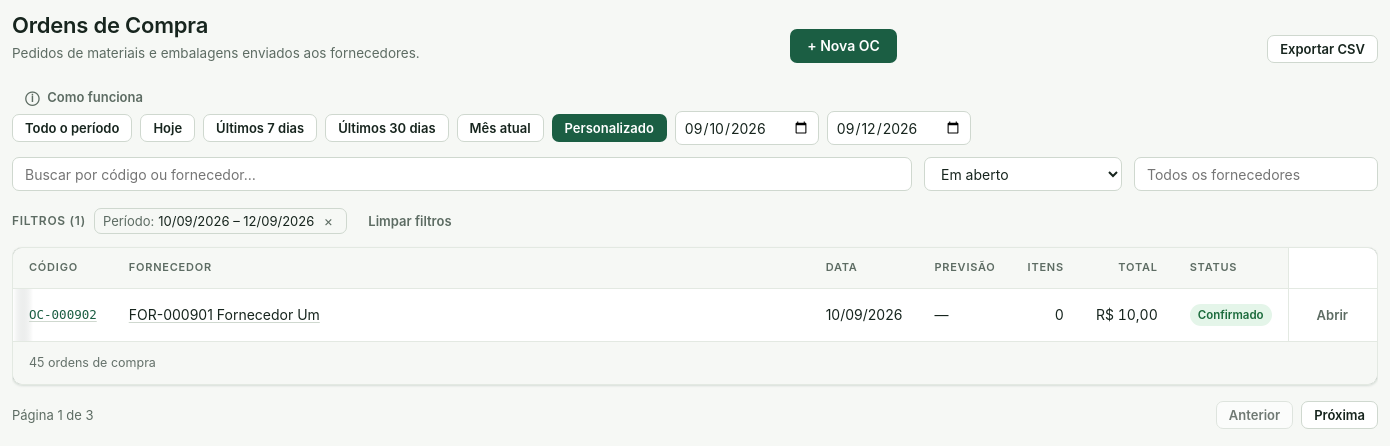
Test: as seis perguntas do período, lista por lista › Ordens de Compra
This screenshot has width=1390, height=446.
Type "2026-09-10" into the 2nd date field named "Pedido até" at (899, 128), box [827,111,971,145]
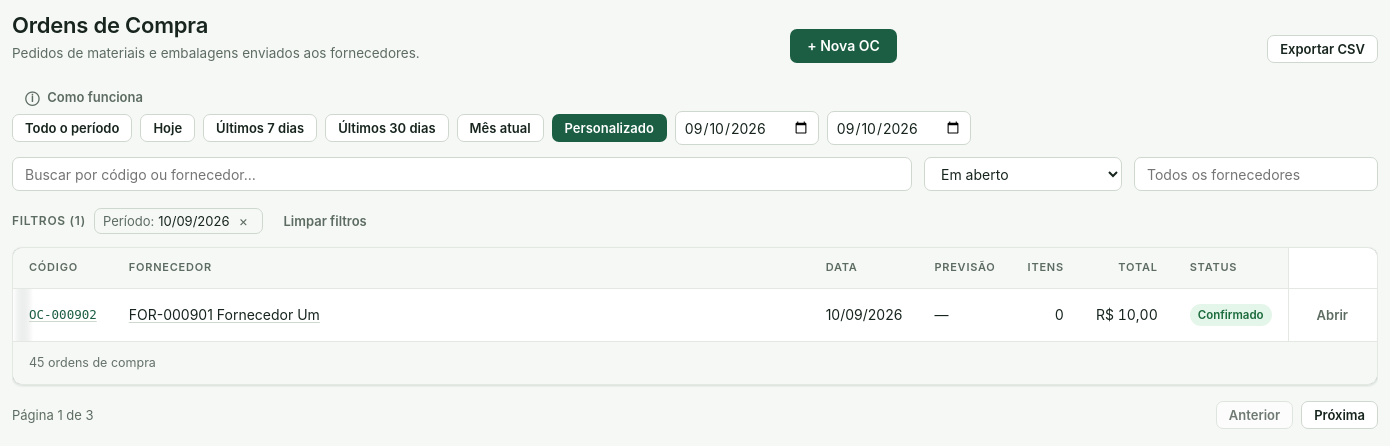
Expected: the link "OC-000902" is shown, [29,307,97,322]
Expected: the text "Página 1 de 3" is shown, [12,406,94,424]
Clear the 2nd date field named "Pedido até" at (899, 128), box [827,111,971,145]
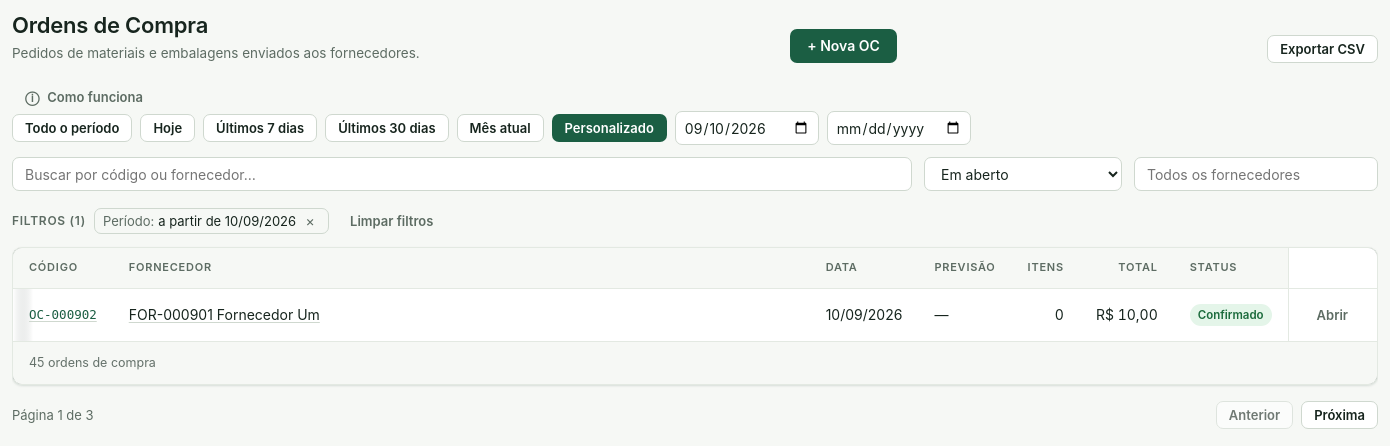
Expected: the link "OC-000902" is shown, [29,307,97,322]
Expected: the text "Página 1 de 3" is shown, [12,406,94,424]
Clear the 1st date field named "Pedido a partir de" at (747, 128), box [675,111,819,145]
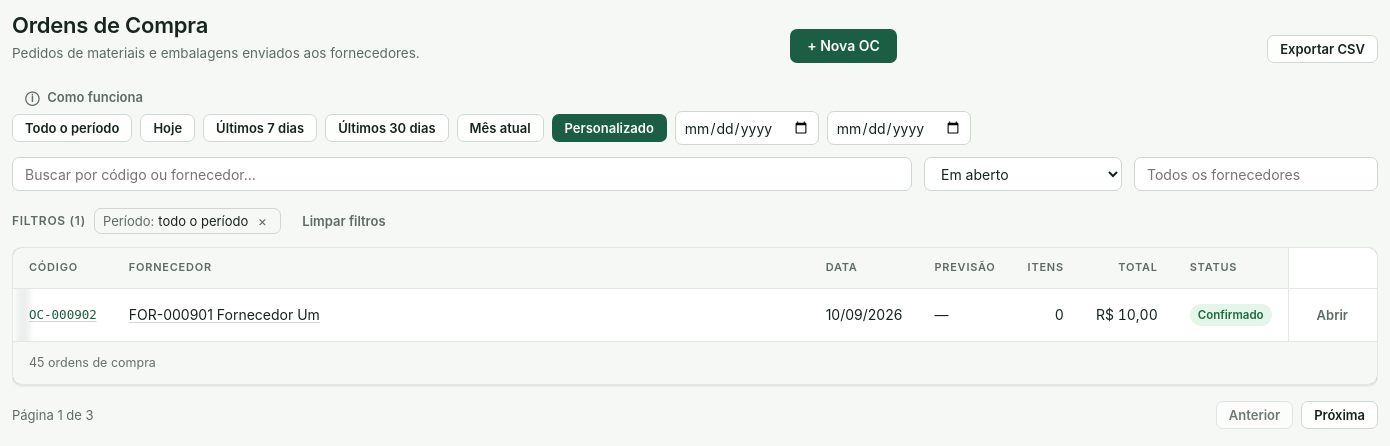
Expected: the link "OC-000902" is shown, [29,307,97,322]
Expected: the text "Página 1 de 3" is shown, [12,406,94,424]
Type "2026-09-10" into the 2nd date field named "Pedido até" at (899, 128), box [827,111,971,145]
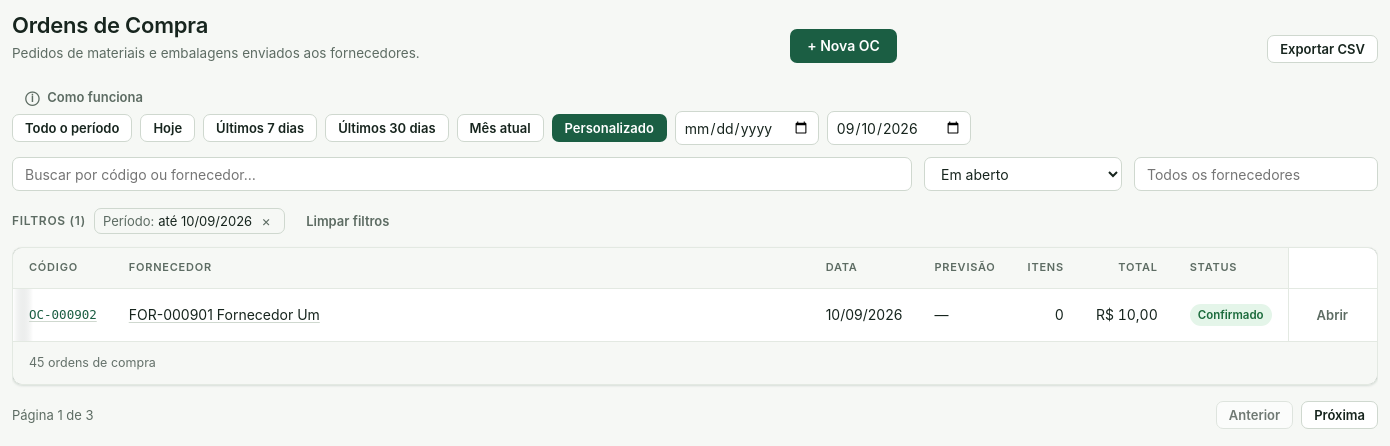
Expected: the link "OC-000902" is shown, [29,307,97,322]
Expected: the text "Página 1 de 3" is shown, [12,406,94,424]
Type "2026-09-11" into the 1st date field named "Pedido a partir de" at (747, 128), box [675,111,819,145]
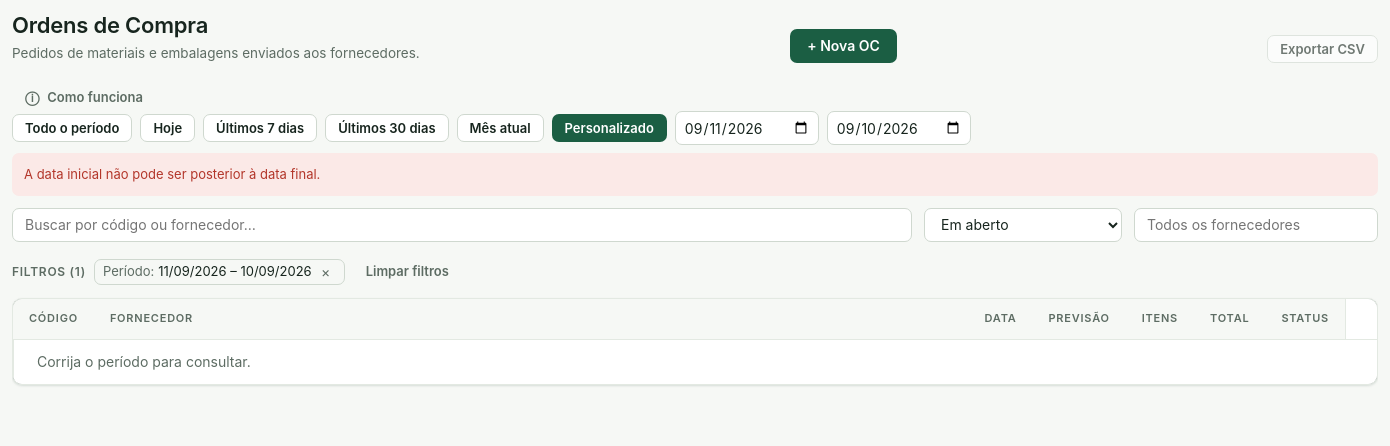
Expected: the message "A data inicial não pode ser posterior à data final." is shown, [12,153,1378,196]
Expected: the message reads "A data inicial não pode ser posterior à data final.", [24,166,320,182]
Expected: the text "Corrija o período para consultar." is shown, [37,353,251,370]
Type "2026-09-11" into the 2nd date field named "Pedido até" at (899, 128), box [827,111,971,145]
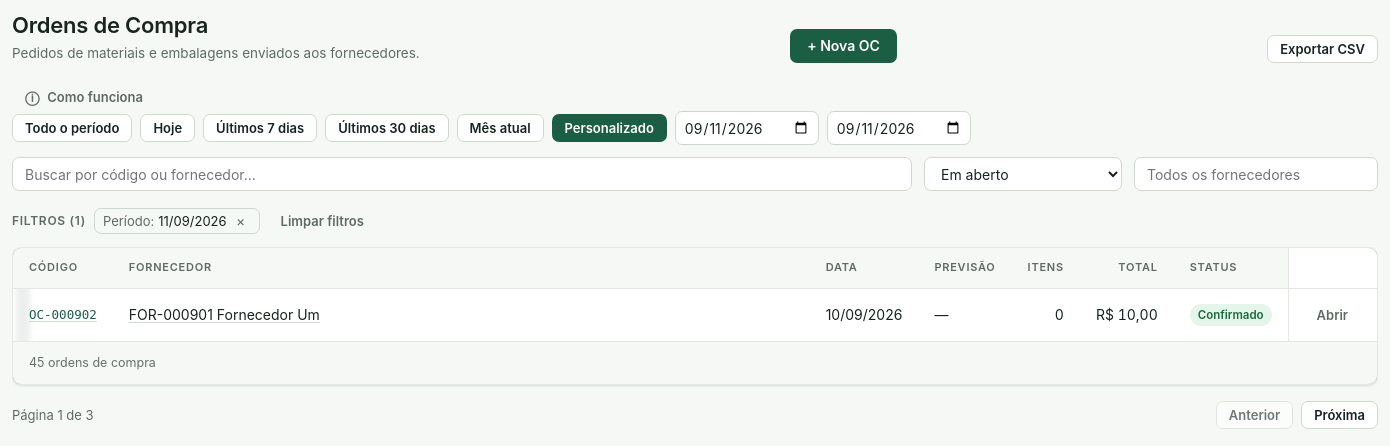
Expected: the link "OC-000902" is shown, [29,307,97,322]
Expected: the text "Página 1 de 3" is shown, [12,406,94,424]
Expected: the message "A data inicial não pode ser posterior à data final." is gone
